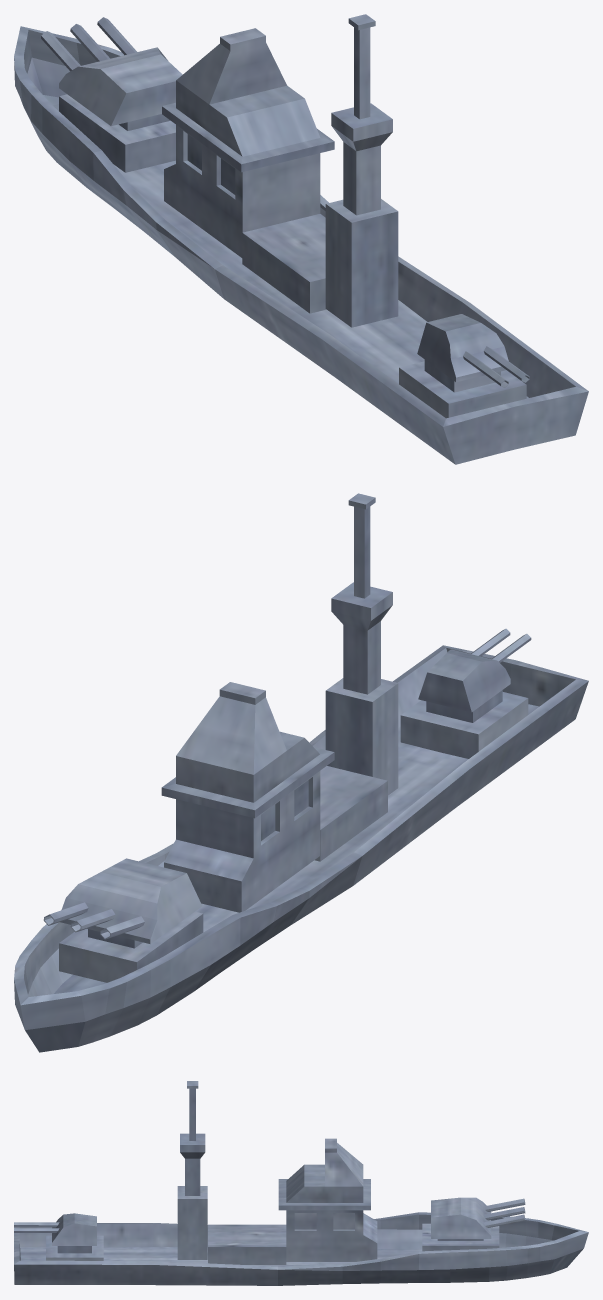
The model's file is Battleship.obj.
3 renders of one model, top to bottom at view 1: azimuth 30°, elevation 25°; view 2: azimuth 150°, elevation 25°; view 3: azimuth 270°, elevation 25°, orthographic. The views are drawn at different scales.
Parts seen in each view (by area): view 1: Cube.006; view 2: Cube.006; view 3: Cube.006.
Part boxes in pixels (<box>): Cube.006: <box>14,14,588,464</box>; Cube.006: <box>14,493,588,1052</box>; Cube.006: <box>14,1081,588,1285</box>.
Bounding box in the file's own units: 1.59 × 3.16 × 8.87.
